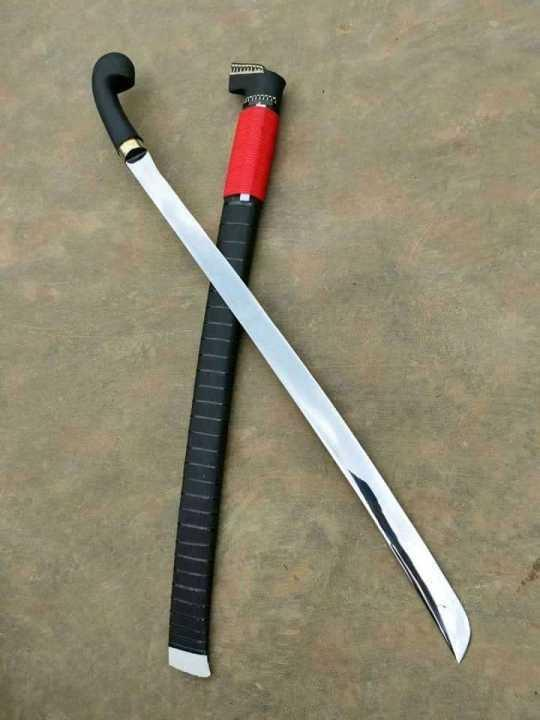espada: (92, 53, 470, 662)
